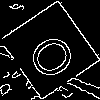O: (25, 25, 86, 84)
